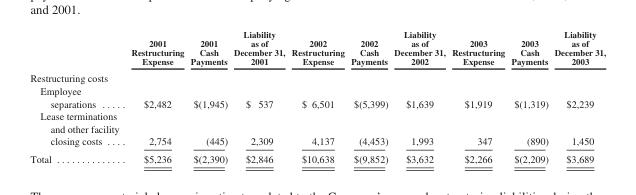table: (29, 28, 605, 164)
table column: (29, 28, 124, 164), (124, 28, 186, 164), (287, 28, 347, 164), (448, 28, 507, 164), (390, 28, 448, 164), (230, 28, 287, 164), (550, 28, 605, 164), (186, 28, 230, 164), (347, 28, 390, 164), (507, 28, 550, 164)
table column header: (29, 28, 605, 68)
table projected row header: (29, 68, 605, 84)
table row: (29, 28, 605, 68), (29, 109, 605, 149), (29, 84, 605, 109), (29, 68, 605, 84), (29, 149, 605, 164)
